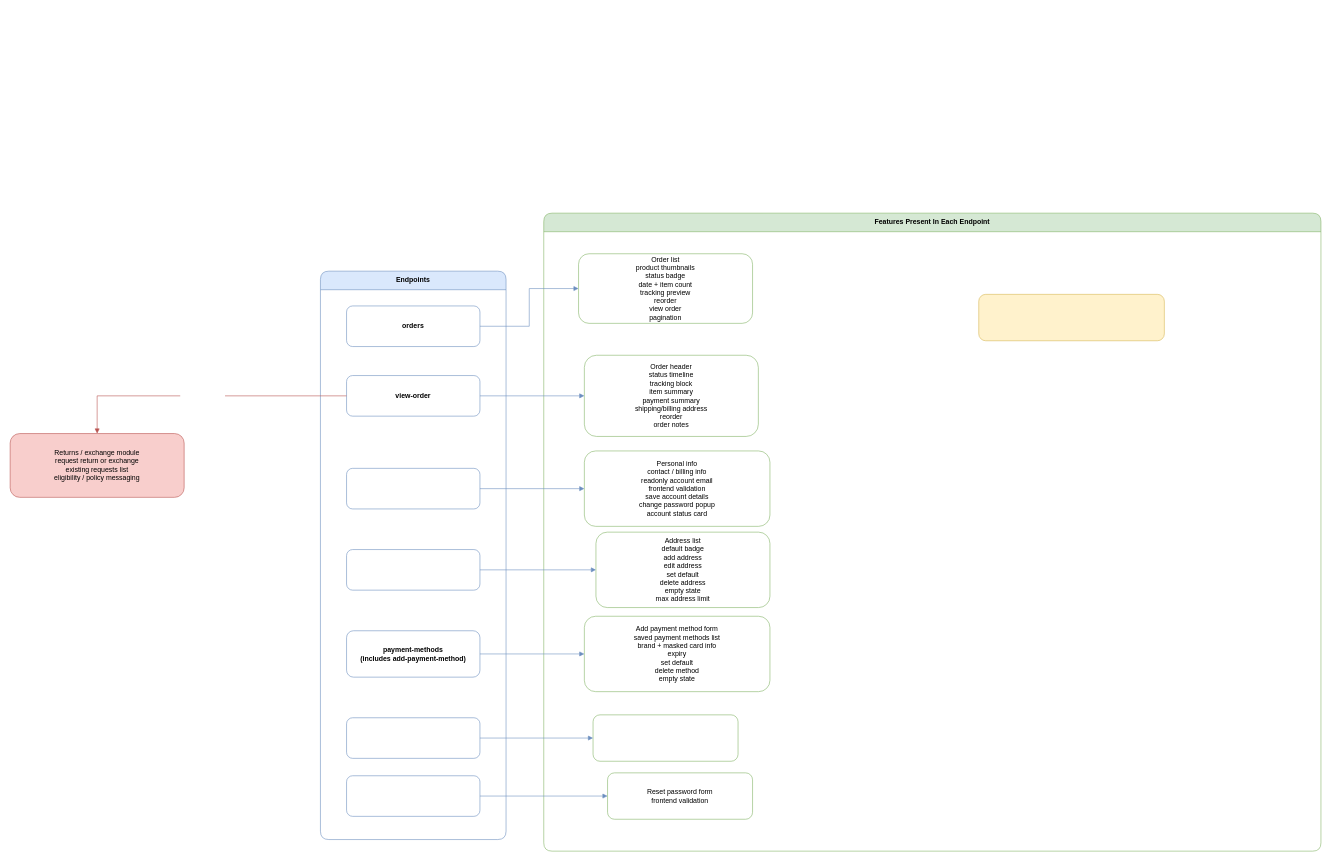
The diagram is 1331 pixels wide and 861 high, and some of its shapes have lost their labels. The centre of each missing label's shape, as x and y in pixels:
"address" goes at [413,569].
"dashboard is effectively a redirect target source for logged-in users -> orders" goes at [1071,317].
"edit-account" goes at [413,488].
"lost-password" goes at [413,737].
"Request reset form frontend validation" goes at [665,737].
"reset-password" goes at [413,795].
